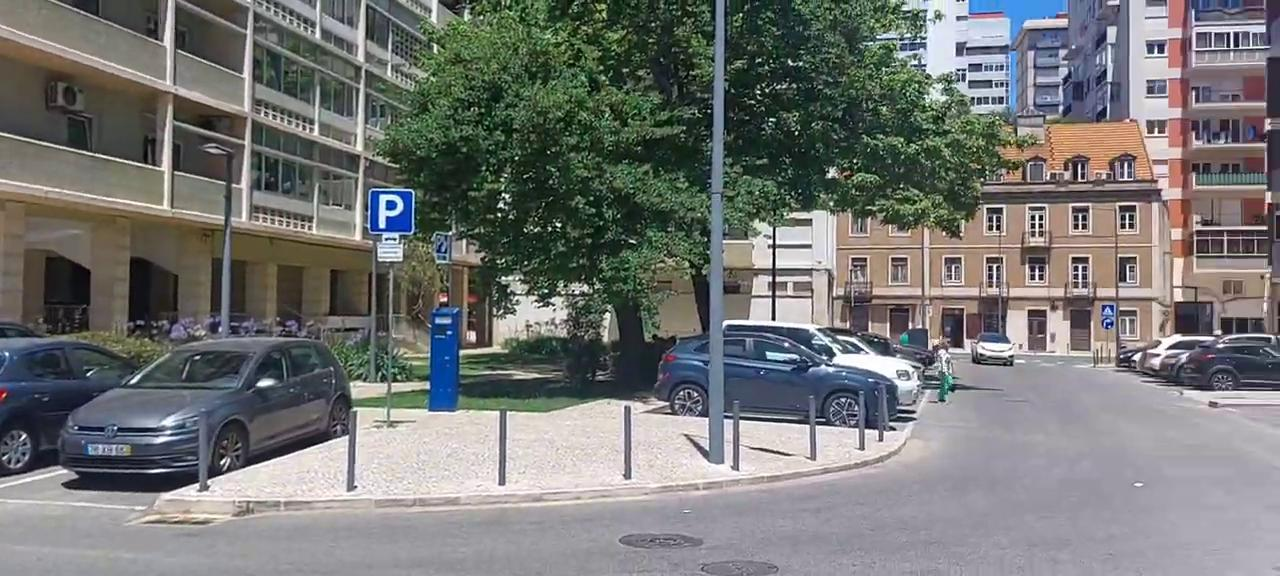Estacionamento autorizado: (365, 183, 417, 236)
